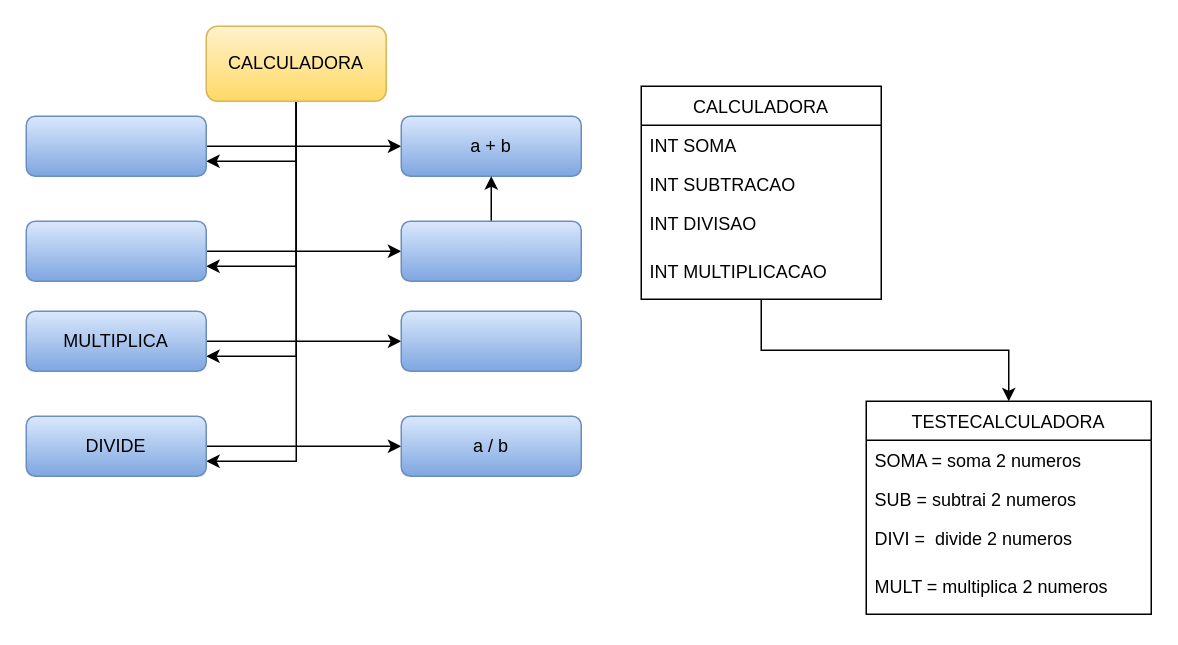
Image size: 1178x645. Some labels were removed from this diagram. Each missing label, with the box of its shape:
a - b: (400, 220, 581, 281)
a x b: (400, 310, 581, 371)
SOMA: (25, 115, 206, 176)
SUBTRAIR: (25, 220, 206, 281)
